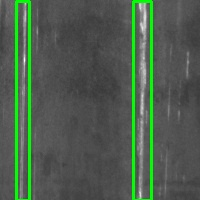scratches: (133, 1, 151, 200), (16, 1, 29, 200)
